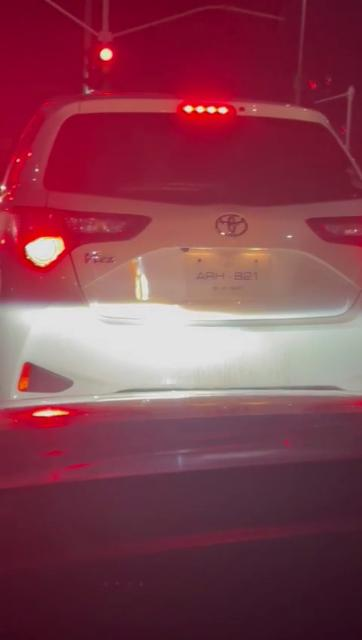plate: (186, 256, 272, 304)
